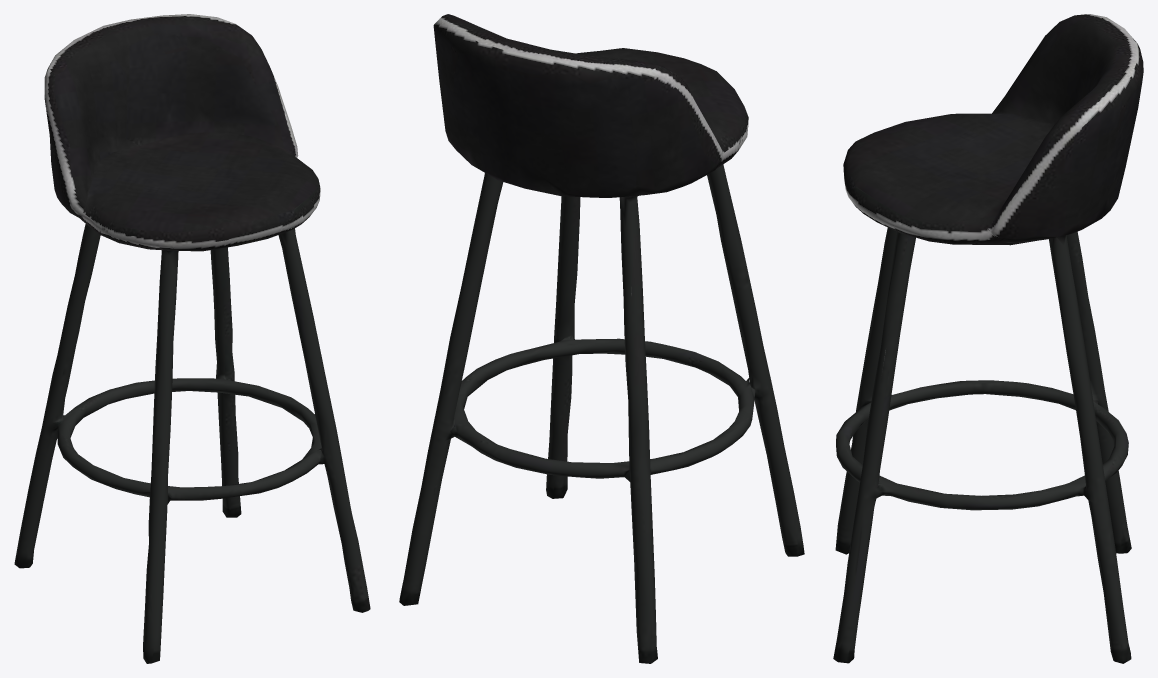
Rendered from bar_stool.glb.
3 renders of one model, left to right at view 1: azimuth 30°, elevation 25°; view 2: azimuth 150°, elevation 25°; view 3: azimuth 270°, elevation 25°, orthographic. The views are drawn at different scales.
Size of the model in its own units: 0.4753 by 1.01 by 0.5117.
Materials: 1 (1 with a texture image).
